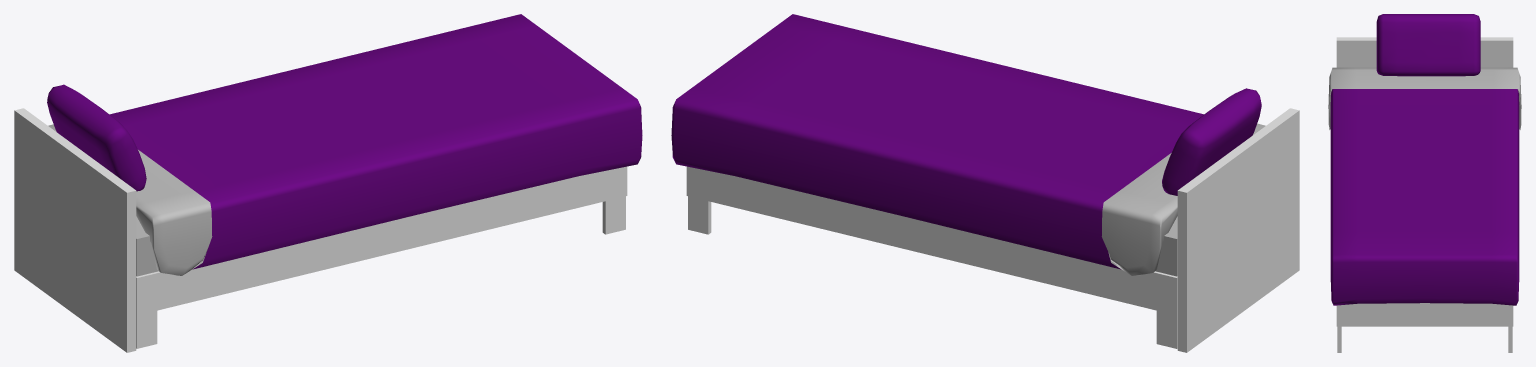
File: TwinBed.fbx
3 renders of one model, left to right at view 1: azimuth 30°, elevation 25°; view 2: azimuth 150°, elevation 25°; view 3: azimuth 270°, elevation 25°, orthographic. The views are drawn at different scales.
Visible parts, largest first — view 1: polySurface2, HeadRest, Frame, polySurface1, Pillow, Mattress, Leg2, Leg3; view 2: polySurface2, HeadRest, Frame, polySurface1, Pillow, Mattress, Leg1, Leg4; view 3: polySurface2, Pillow, Frame, polySurface1, HeadRest.
Part boxes in pixels (x1=…): polySurface2: x1=109, y1=14, x2=642, y2=269; HeadRest: x1=14, y1=108, x2=136, y2=352; Frame: x1=136, y1=166, x2=627, y2=315; polySurface1: x1=48, y1=124, x2=212, y2=275; Pillow: x1=47, y1=84, x2=146, y2=191; Mattress: x1=136, y1=216, x2=158, y2=276; Leg2: x1=602, y1=196, x2=625, y2=234; Leg3: x1=136, y1=310, x2=157, y2=348; polySurface2: x1=671, y1=14, x2=1203, y2=269; HeadRest: x1=1177, y1=108, x2=1299, y2=352; Frame: x1=686, y1=166, x2=1177, y2=315; polySurface1: x1=1101, y1=123, x2=1265, y2=275; Pillow: x1=1162, y1=88, x2=1261, y2=195; Mattress: x1=1155, y1=216, x2=1177, y2=276; Leg1: x1=688, y1=196, x2=711, y2=234; Leg4: x1=1156, y1=310, x2=1177, y2=348; polySurface2: x1=1330, y1=89, x2=1519, y2=305; Pillow: x1=1376, y1=14, x2=1480, y2=76; Frame: x1=1336, y1=303, x2=1513, y2=326; polySurface1: x1=1328, y1=67, x2=1521, y2=129; HeadRest: x1=1336, y1=37, x2=1513, y2=67.
Size of the model in its own units: 4.3 by 1.6 by 1.79.
